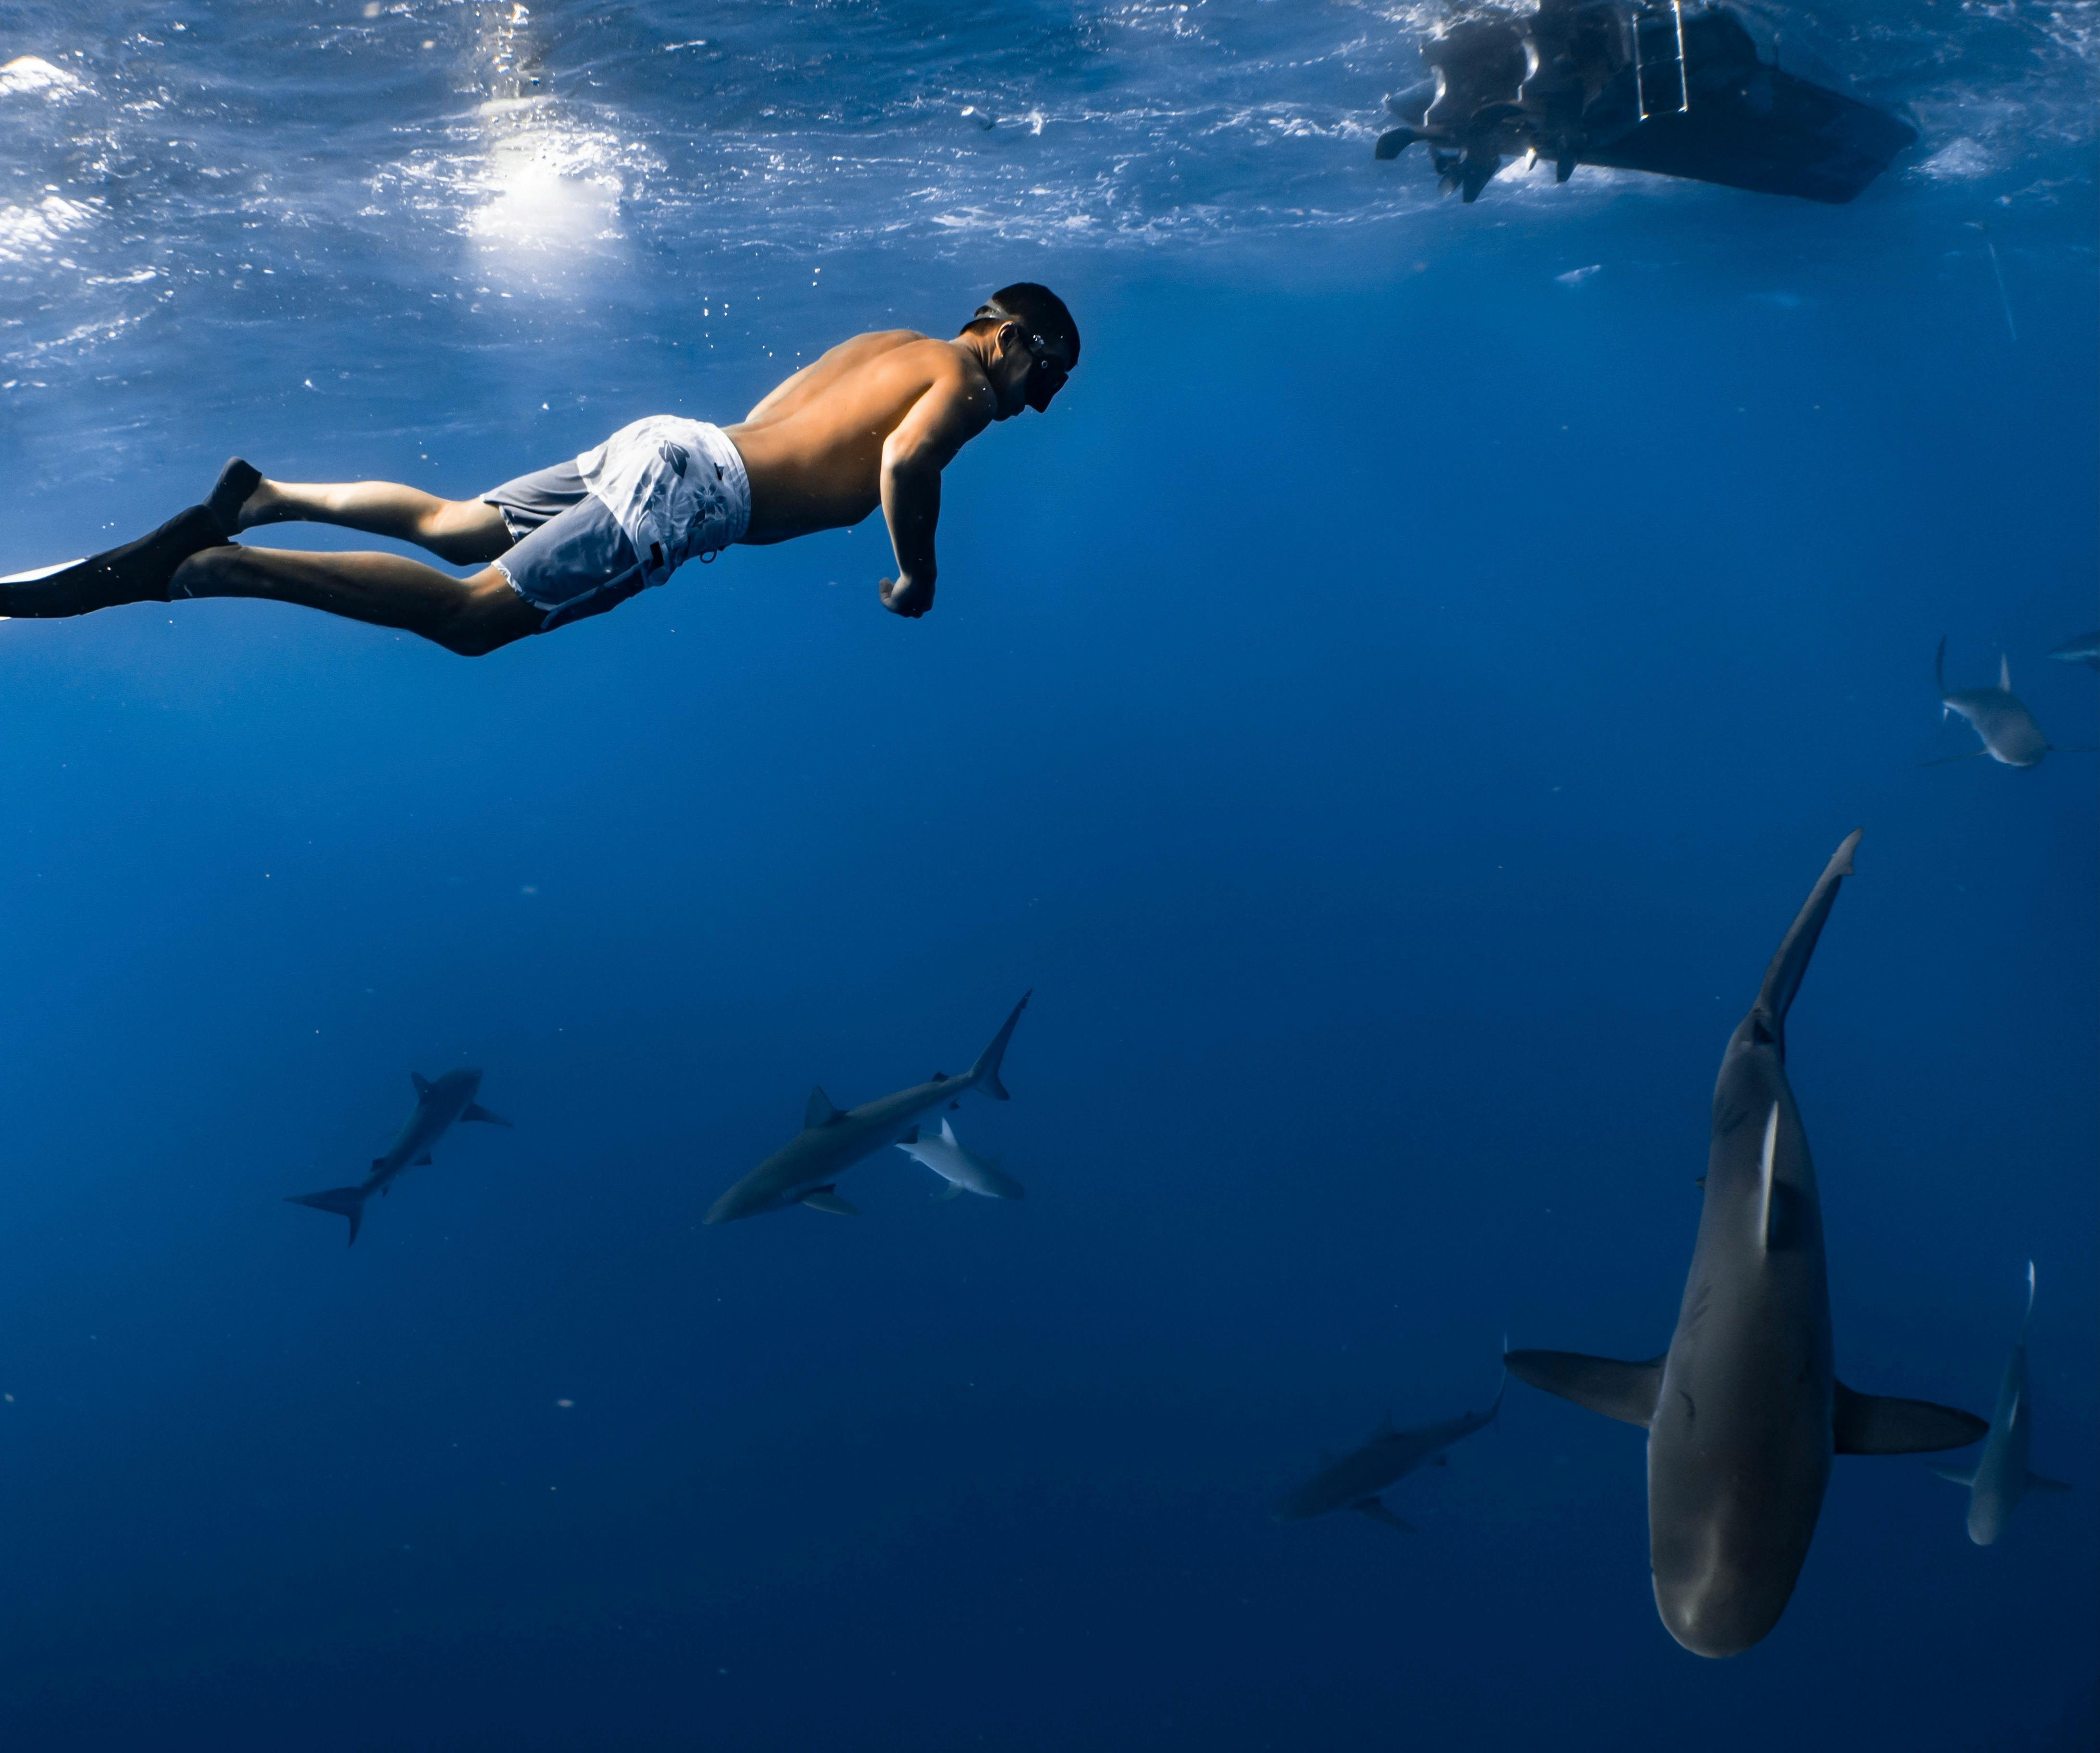shark: (1495, 825, 1994, 1668), (696, 991, 1034, 1242), (1903, 1254, 2088, 1563), (1258, 1326, 1517, 1544), (279, 1040, 516, 1259), (1908, 633, 2098, 780), (876, 1123, 1026, 1221)
